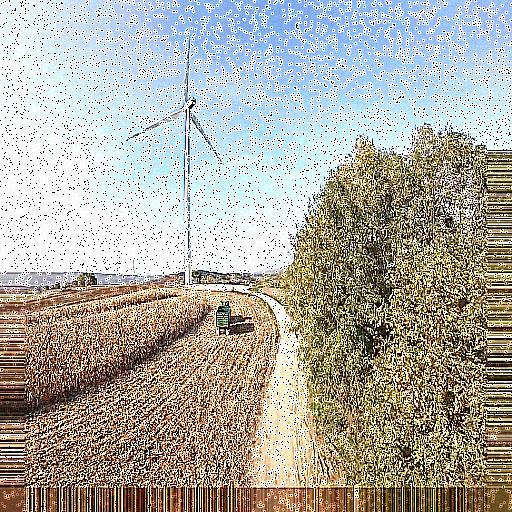wind turbine: (123, 36, 224, 271)
